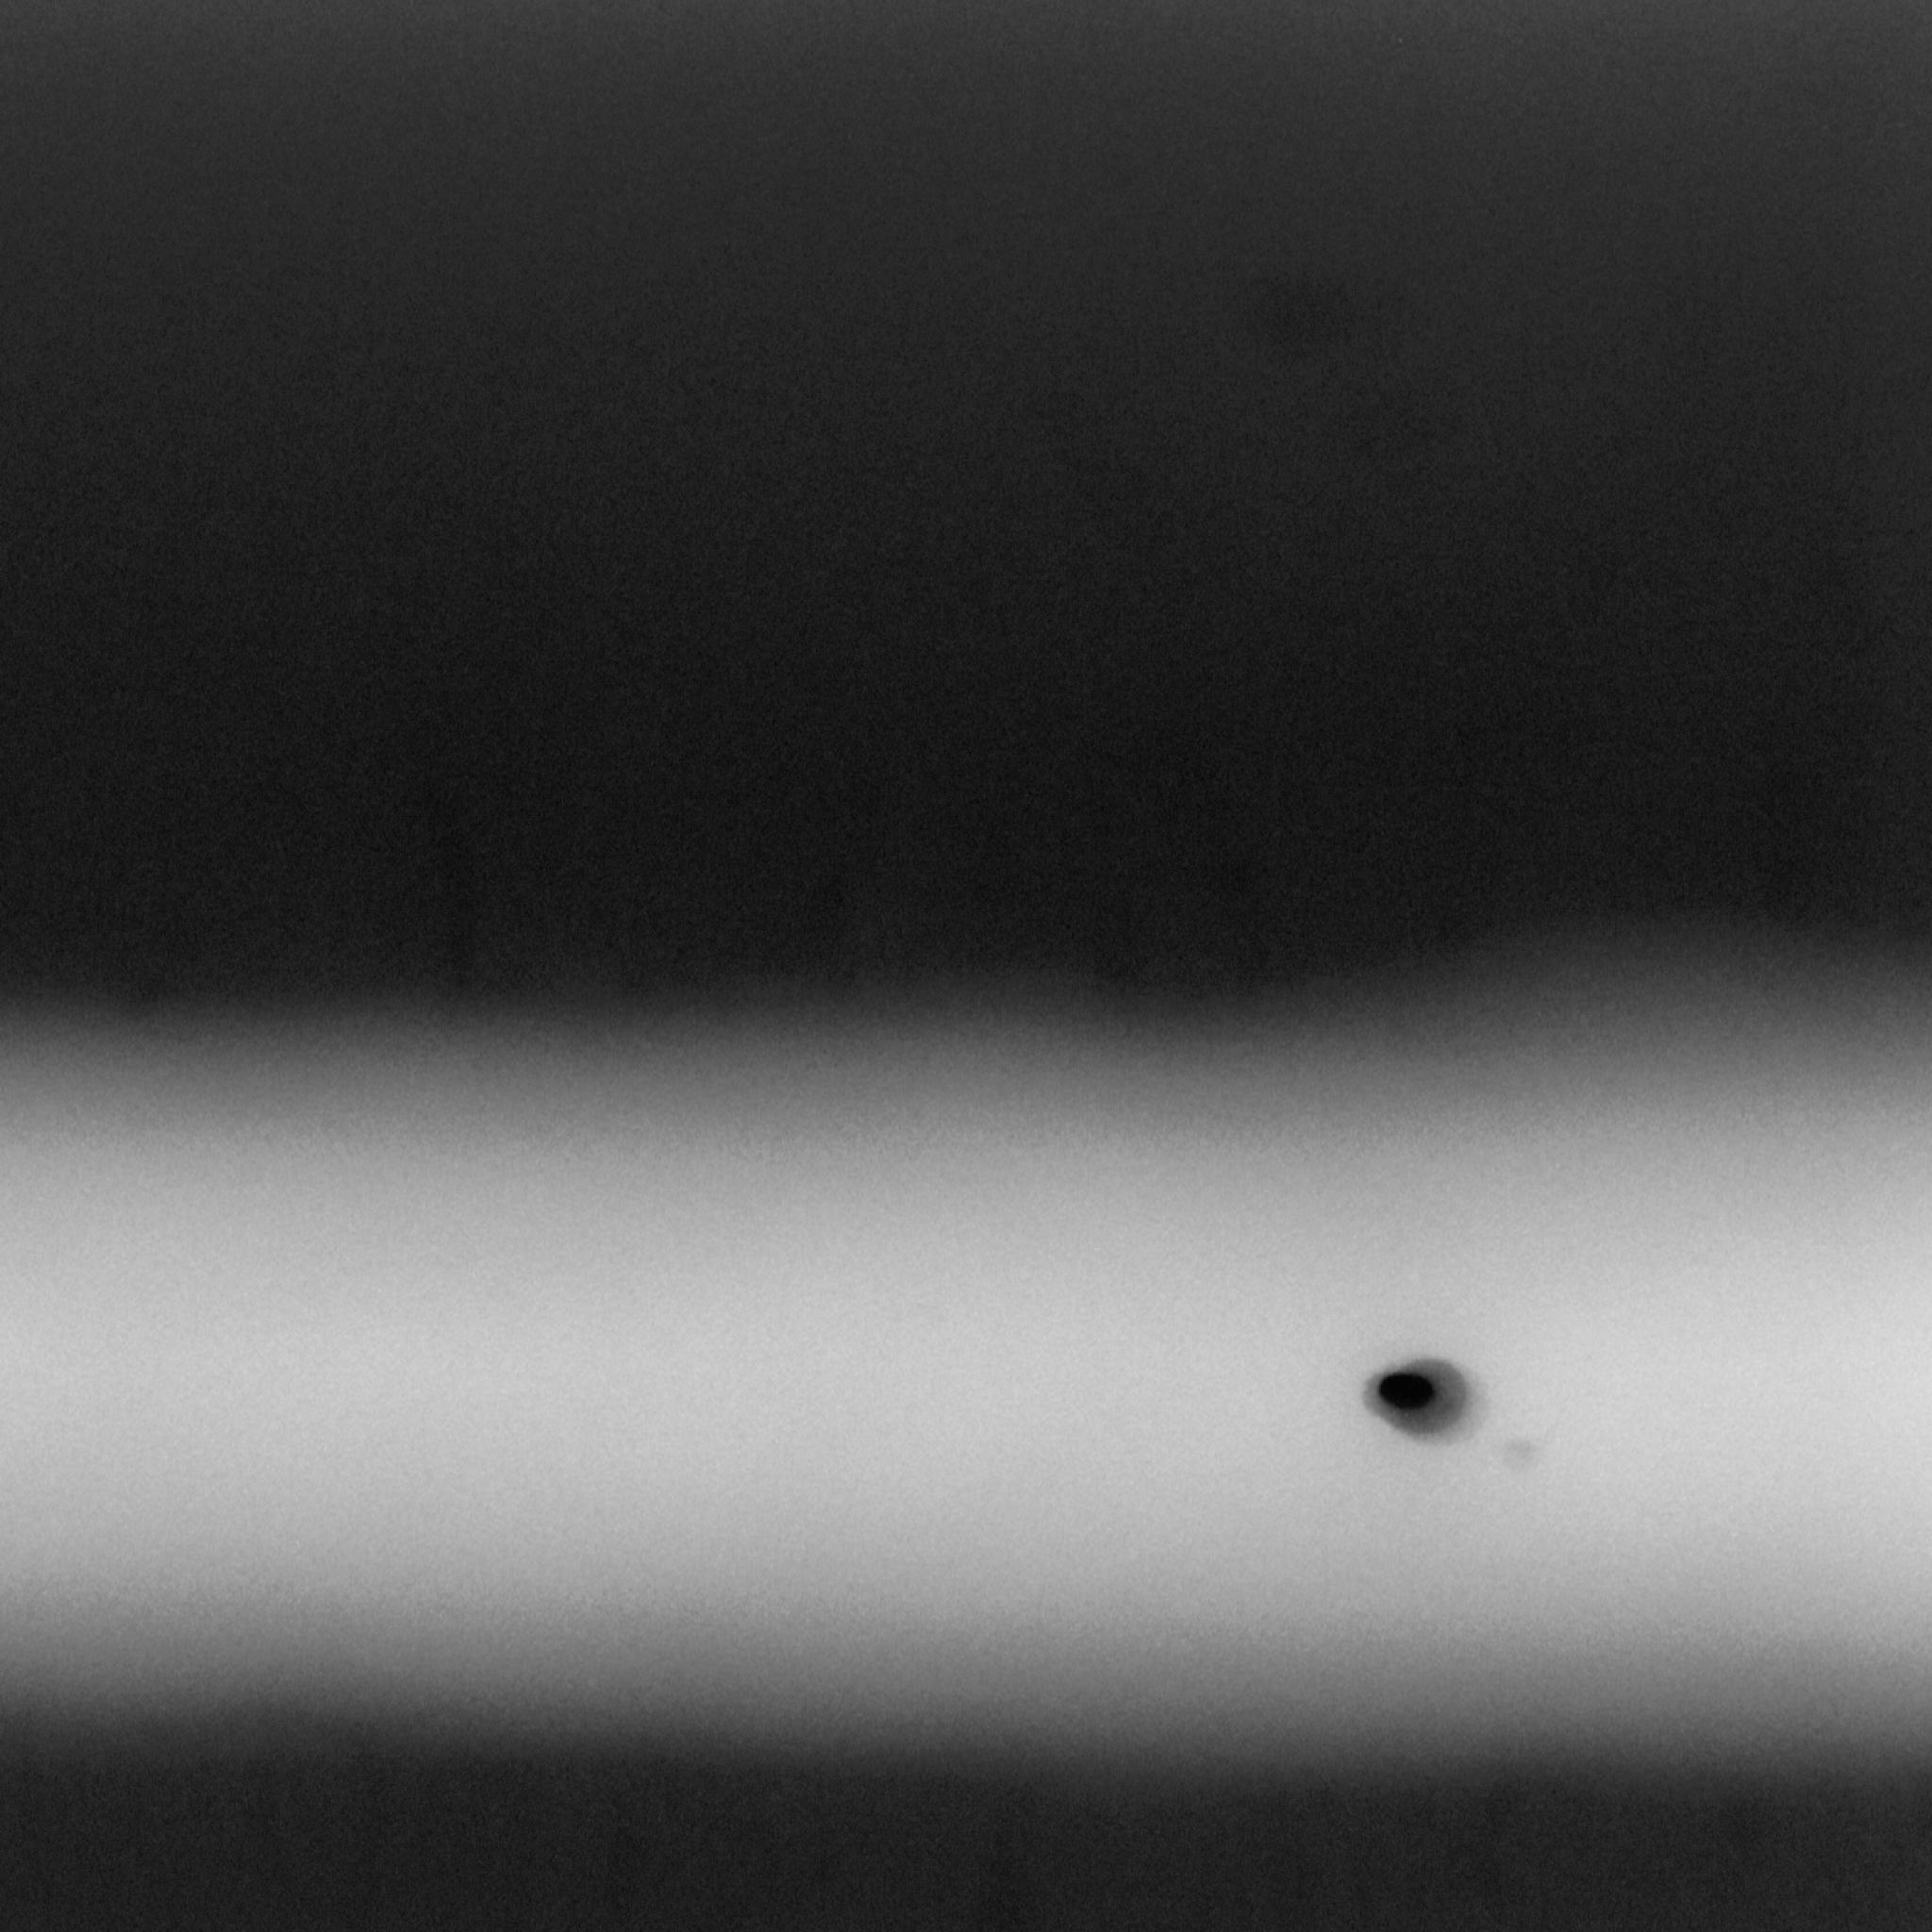Solda Ruim: (0, 661, 1932, 1932)
